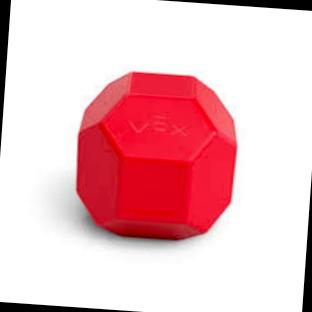V5_RED: (75, 73, 234, 238)
